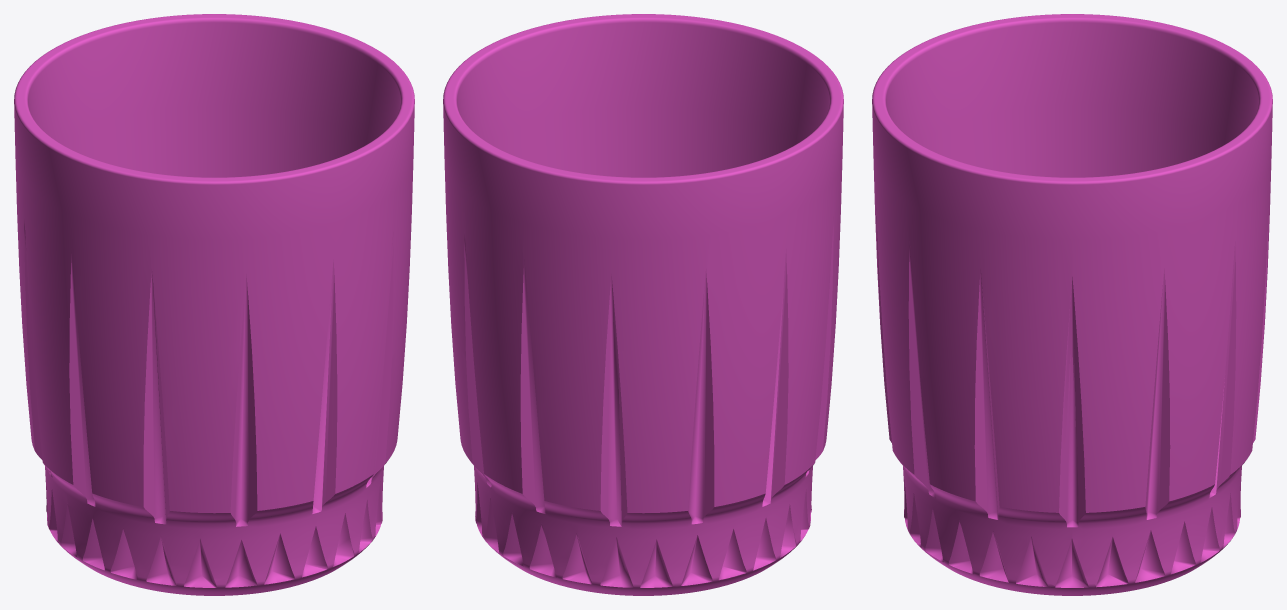
File: glass-obj.obj
The picture shows the model from 3 angles, left to right: view 1: azimuth 30°, elevation 25°; view 2: azimuth 150°, elevation 25°; view 3: azimuth 270°, elevation 25°; orthographic projection.
Parts seen in each view (by area): view 1: Line001; view 2: Line001; view 3: Line001.
Boxes of the visible parts, x1,y1,x2,y2 form: Line001: (14,14,414,595); Line001: (443,14,843,595); Line001: (872,14,1272,595).
Size of the model in its own units: 152 by 182 by 152.
